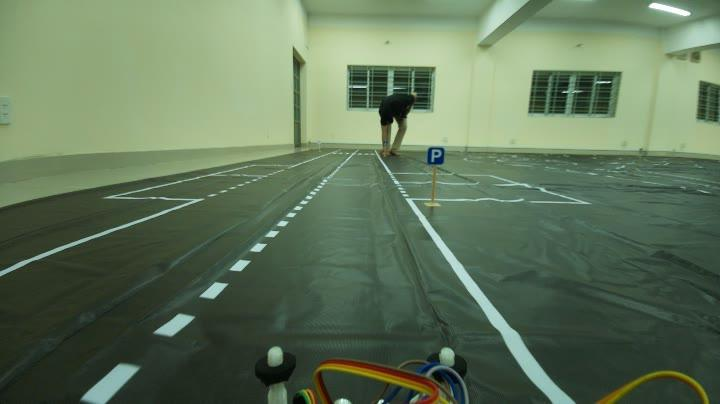parking: (422, 142, 447, 169)
